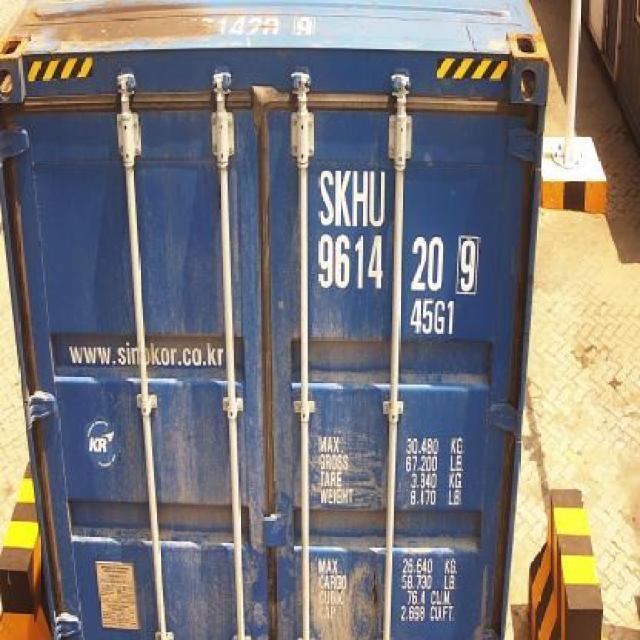ISO: (407, 296, 458, 335)
container_number: (312, 165, 486, 296)
